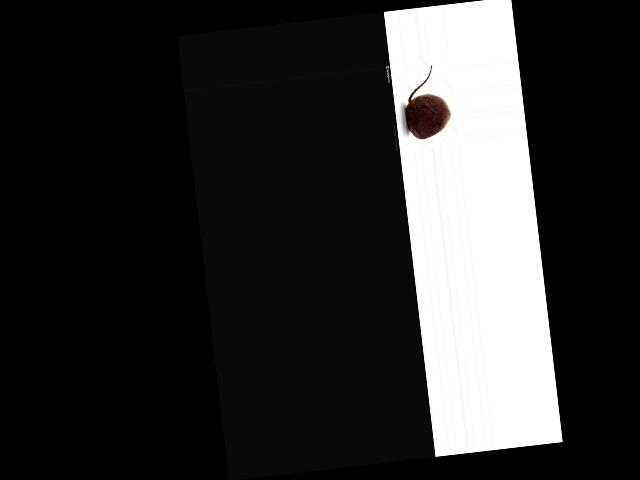beet: (400, 63, 452, 141)
